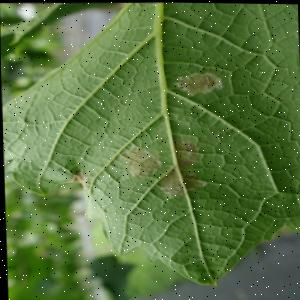Folha: (0, 0, 300, 289)
Fungo: (115, 143, 164, 181), (159, 131, 204, 172), (154, 166, 207, 197), (169, 69, 224, 95), (63, 172, 87, 189)
